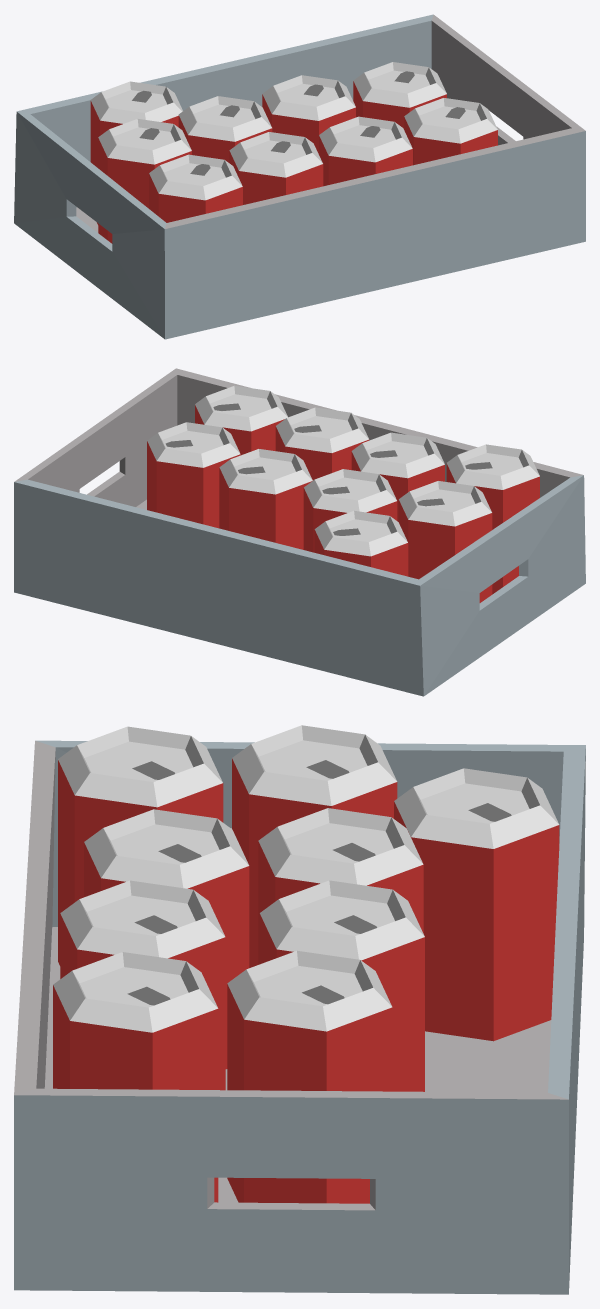
Rendered from shop_102.fbx.
3 renders of one model, top to bottom at view 1: azimuth 30°, elevation 25°; view 2: azimuth 150°, elevation 25°; view 3: azimuth 270°, elevation 25°, orthographic. The views are drawn at different scales.
Visible parts, largest first — view 1: shop_102; view 2: shop_102; view 3: shop_102.
Boxes of the visible parts, left/top/right/bottom form: shop_102: left=14, top=14, right=585, bottom=339; shop_102: left=14, top=368, right=585, bottom=696; shop_102: left=14, top=725, right=585, bottom=1294.
Size of the model in its own units: 43.7 by 29.18 by 13.03.
